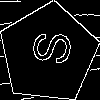S: (23, 28, 72, 67)
